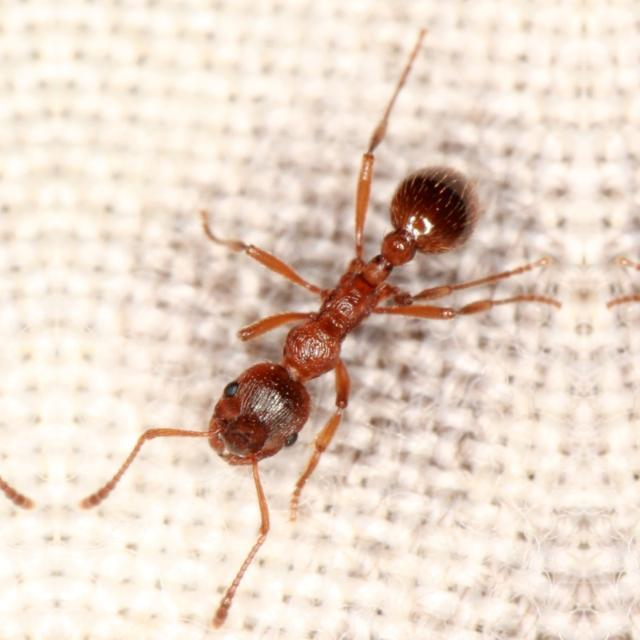Myrmica: (78, 102, 516, 510)
